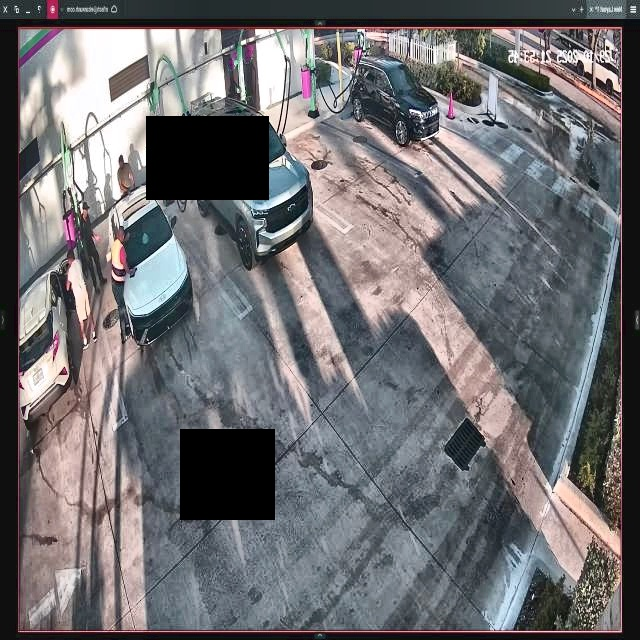Car: (186, 98, 313, 267), (108, 186, 191, 345), (349, 56, 439, 149)
